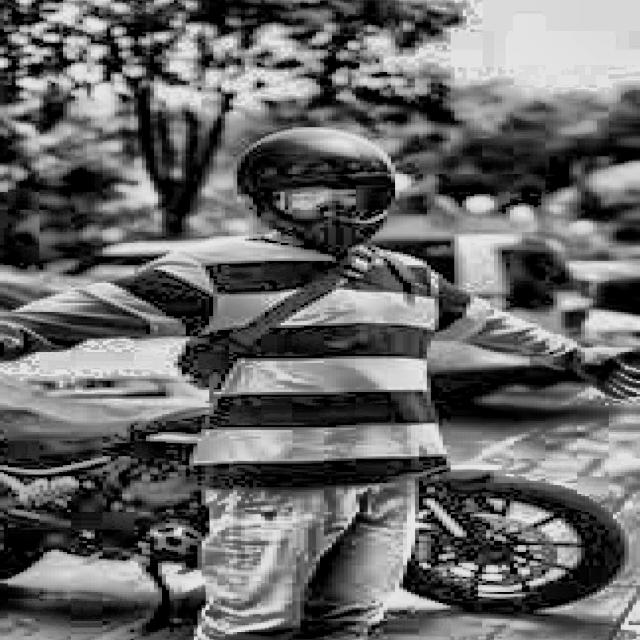Helmet: (226, 128, 405, 254)
